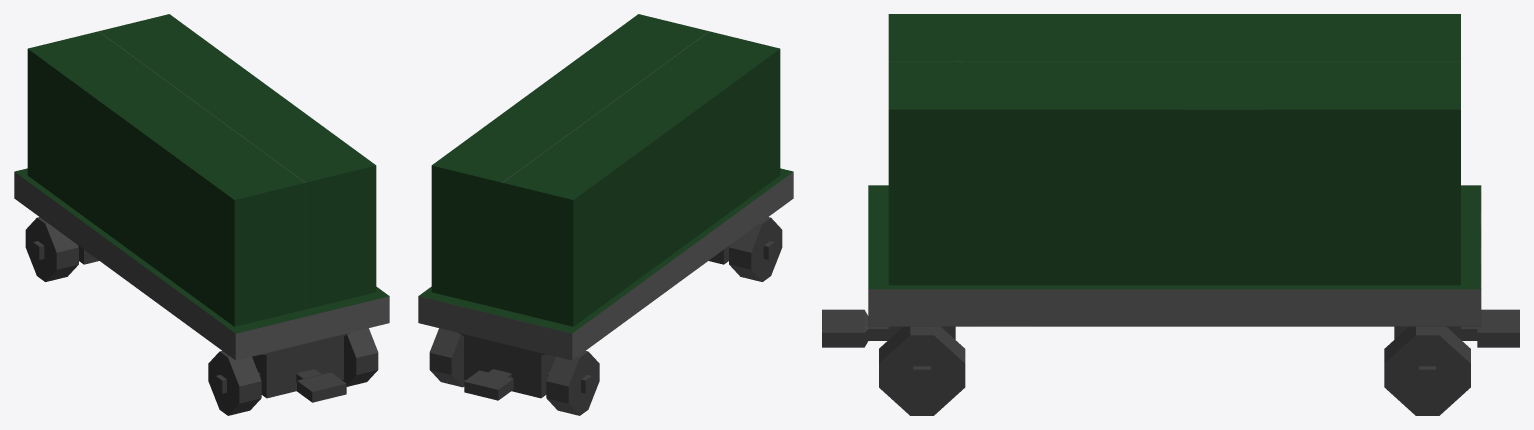
File: Train_Car_1.glb
3 views of the same model, side by side, from view 1: azimuth 30°, elevation 25°; view 2: azimuth 150°, elevation 25°; view 3: azimuth 270°, elevation 25° (orthographic). The views are drawn at different scales.
Visible parts, largest first — view 1: Train_Car_1; view 2: Train_Car_1; view 3: Train_Car_1.
Part boxes in pixels (x1,y1,x2,y2): Train_Car_1: [14, 14, 389, 415]; Train_Car_1: [418, 14, 793, 415]; Train_Car_1: [822, 14, 1519, 415].
Size of what is drawn, in the model's own units: 2.2 by 3.04 by 6.25.
1 material, 1 textured.
